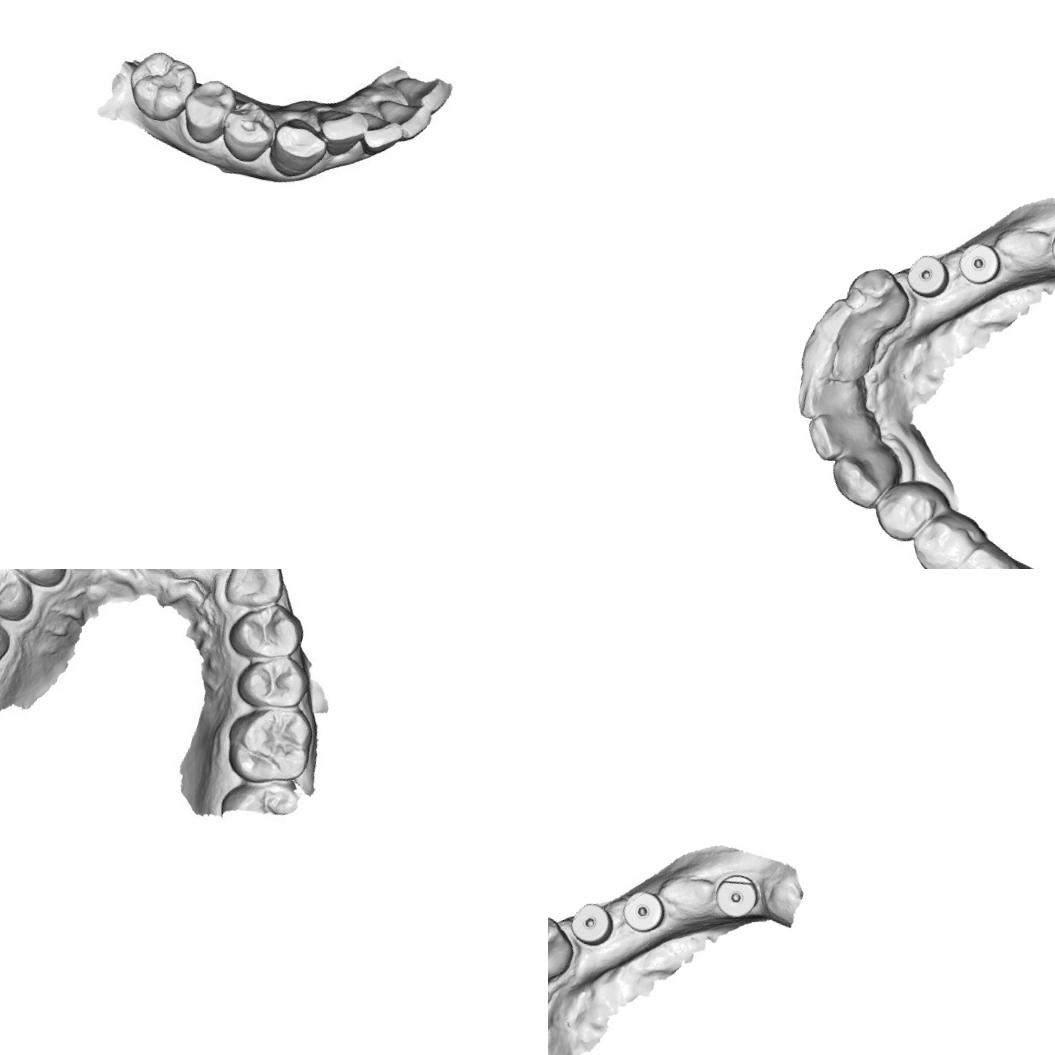canine: (824, 436, 906, 516), (840, 258, 916, 330), (264, 112, 330, 184), (217, 569, 288, 614), (548, 906, 580, 977)
implant: (710, 868, 762, 922), (954, 239, 1004, 289), (618, 887, 668, 937), (904, 249, 952, 301), (568, 897, 616, 949)
incisor: (788, 366, 870, 433), (805, 291, 886, 358), (800, 404, 876, 470), (796, 331, 868, 392), (365, 90, 434, 144), (312, 98, 369, 161), (386, 64, 452, 116), (355, 110, 406, 159)
molar: (219, 694, 318, 793), (120, 45, 199, 129), (941, 537, 1017, 569), (0, 583, 22, 687)
premolar: (229, 643, 318, 717), (221, 591, 306, 666), (866, 469, 943, 548), (214, 88, 279, 170), (903, 504, 981, 569), (174, 72, 236, 148), (0, 569, 38, 624), (0, 569, 78, 592)
